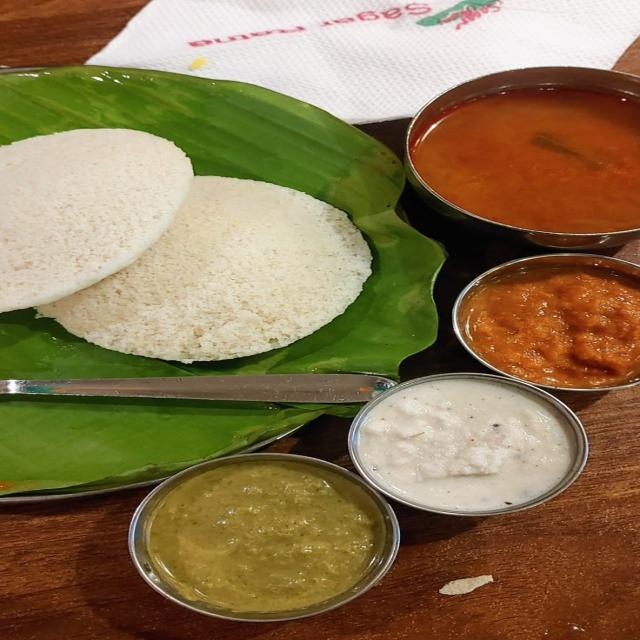chutney: (363, 373, 581, 521)
idly: (35, 166, 365, 364), (0, 124, 188, 315)
sambar: (393, 71, 640, 239)
